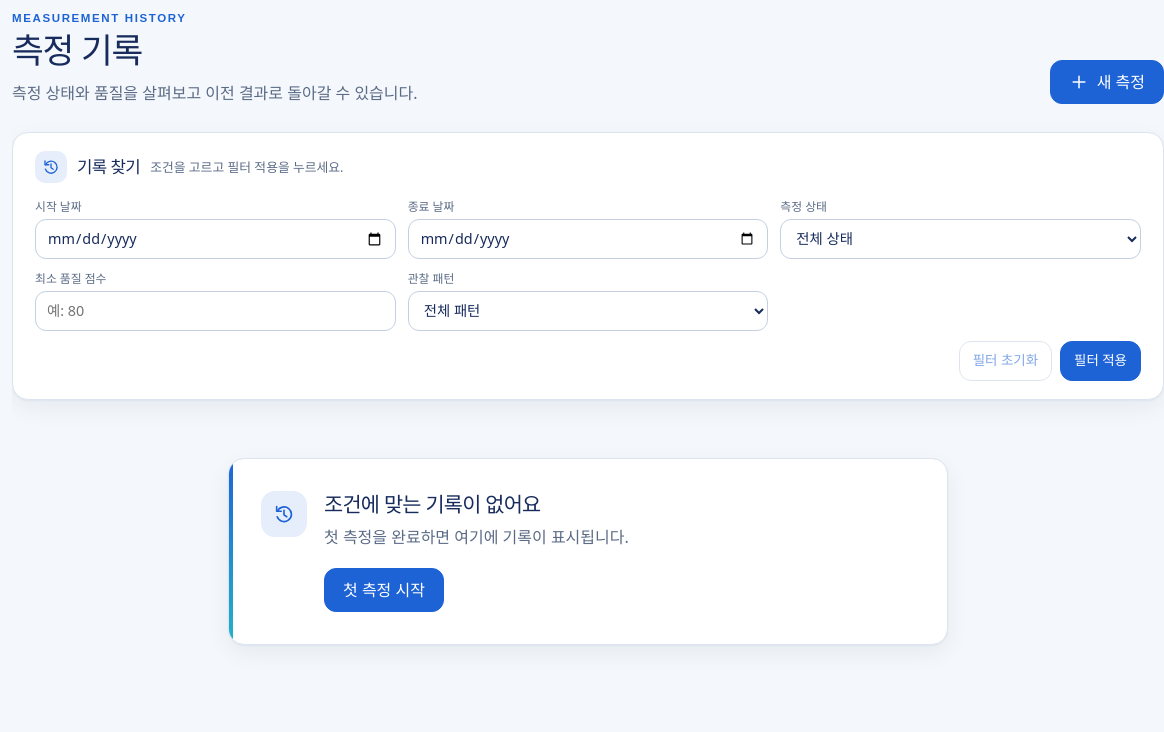
Test: HistoryPage › 시작 날짜가 종료 날짜보다 늦으면 요청하지 않는다
Type "2026-09-03" into the date field labelled "시작 날짜".
click(215, 239); type("2026-09-03")  # box x1=35 y1=219 x2=396 y2=259
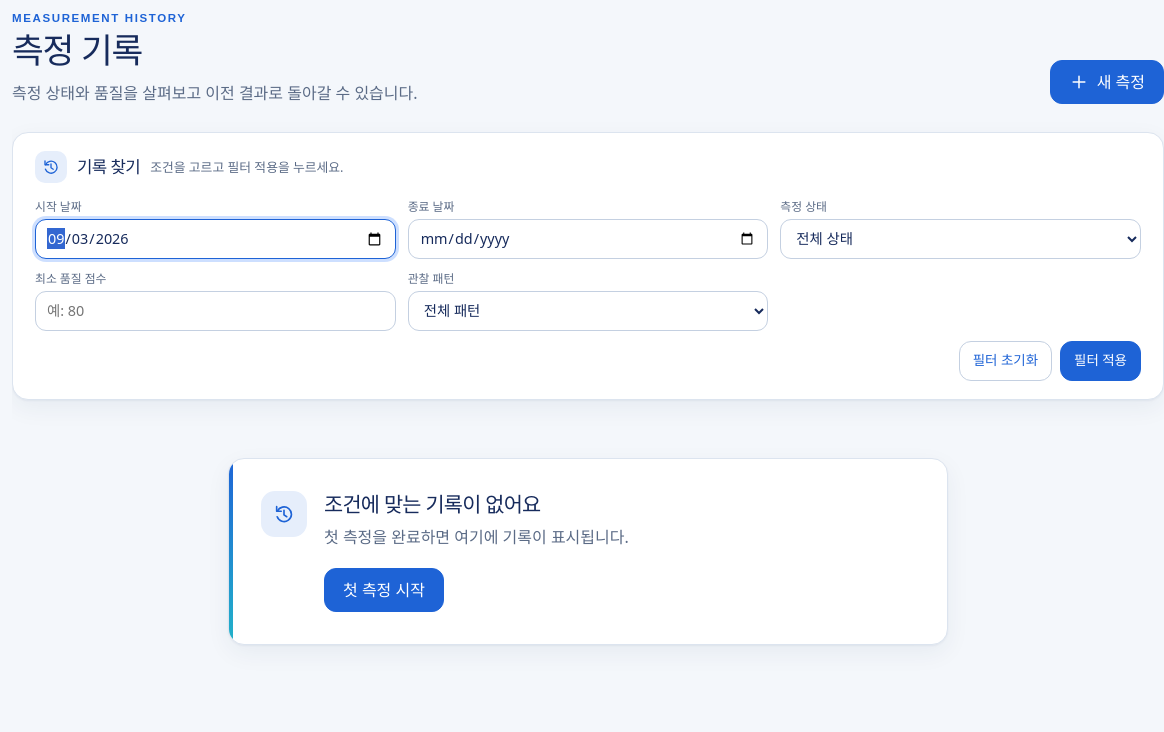
Type "2026-09-02" into the date field labelled "종료 날짜".
click(588, 239); type("2026-09-02")  # box x1=408 y1=219 x2=768 y2=259
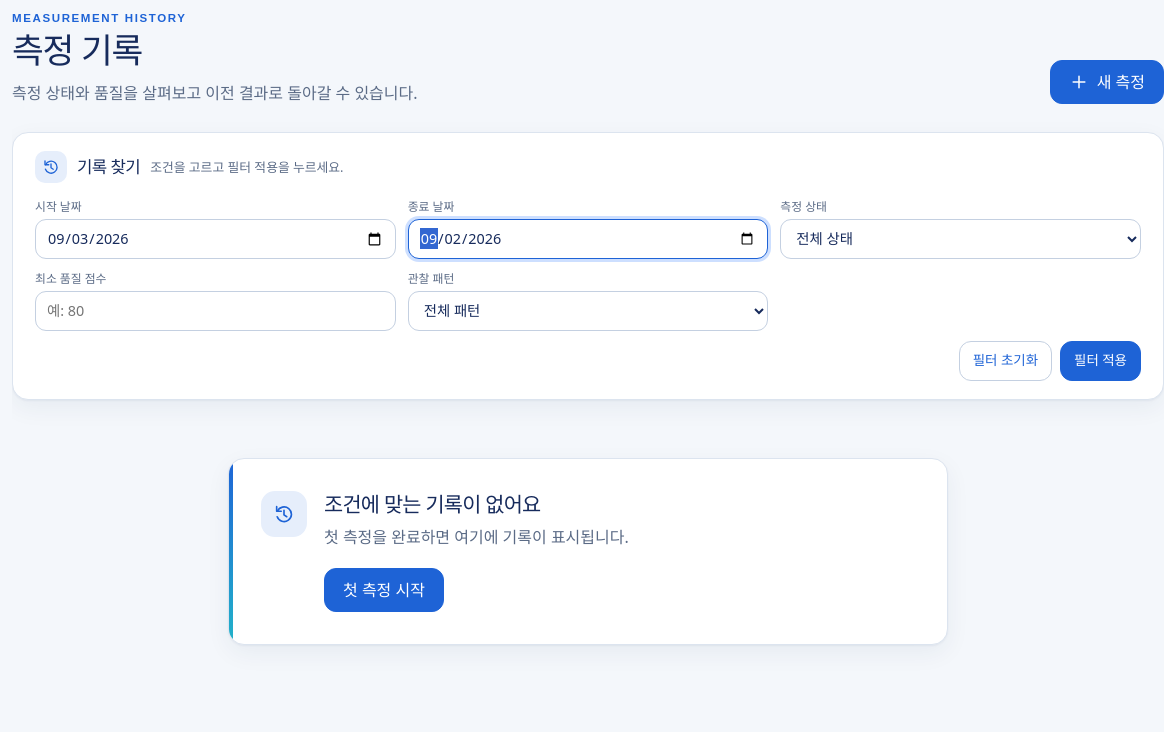
Click the button "필터 적용".
click(1100, 361)  # box x1=1060 y1=341 x2=1141 y2=381
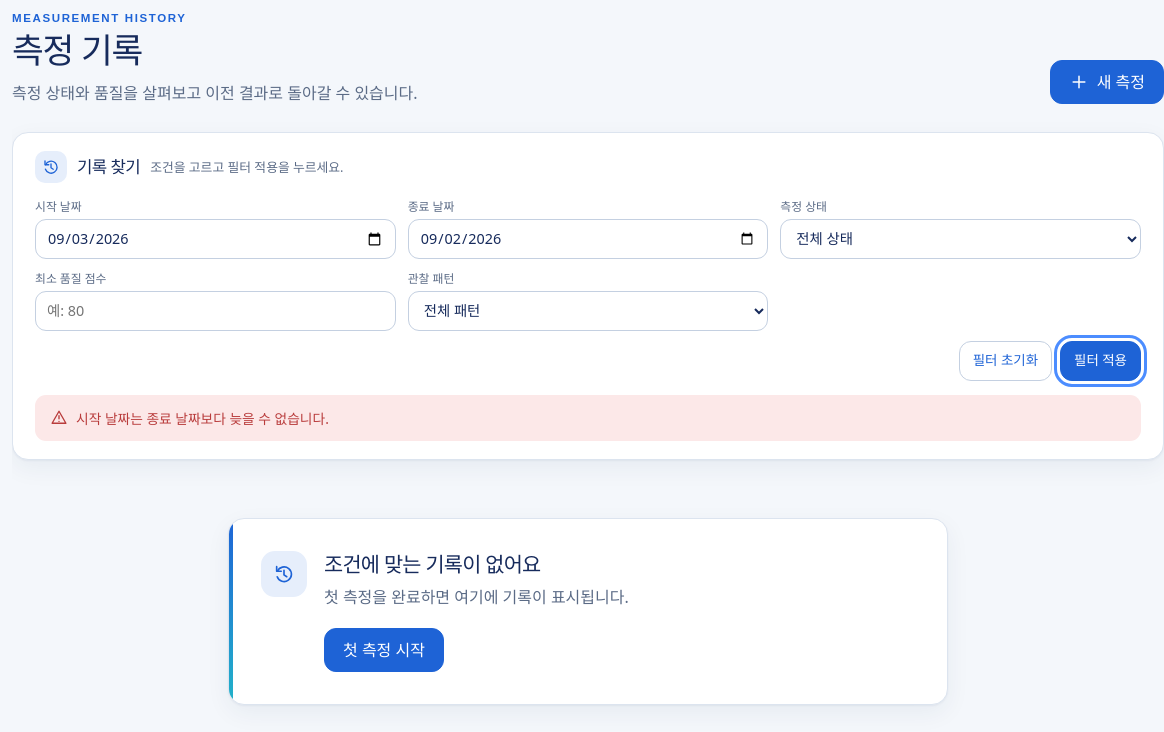
Expected: the message "시작 날짜는 종료 날짜보다 늦을 수 없습니다." is shown, x1=35 y1=395 x2=1141 y2=441
